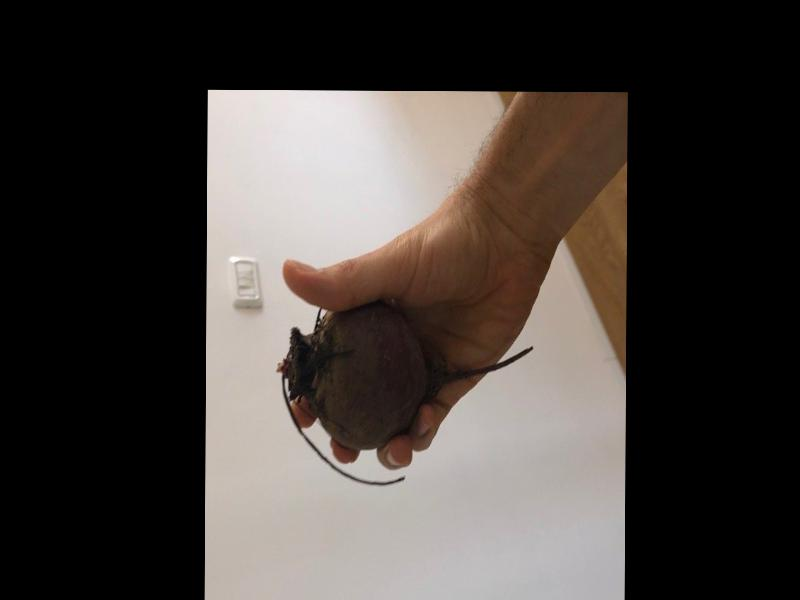Beet: (277, 305, 532, 488)
